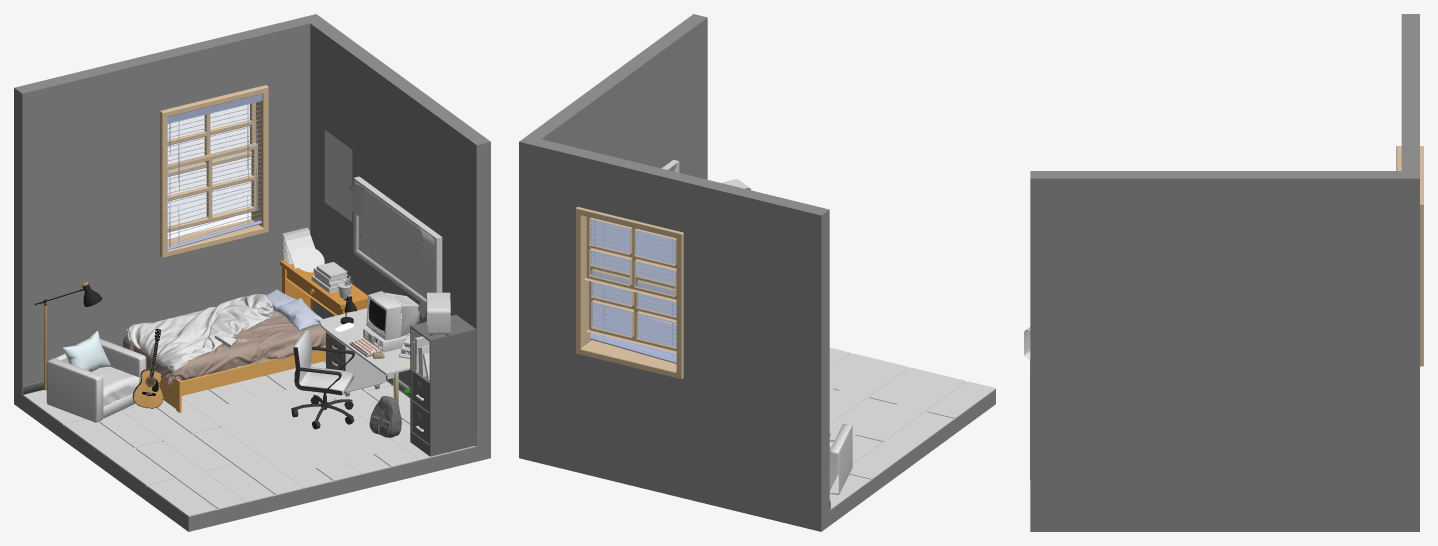
The model's file is bekedPortfolio6.glb.
The picture shows the model from 3 angles, left to right: view 1: azimuth 30°, elevation 25°; view 2: azimuth 150°, elevation 25°; view 3: azimuth 270°, elevation 25°; orthographic projection. The views are drawn at different scales.
Parts seen in each view (by area): view 1: floorWalls, window, carpet, fileCabinet, smallCouch, Duvet, board, Sheet, desk, chair, pc, bedFrame (+11 smaller); view 2: floorWalls, window, smallCouch; view 3: floorWalls, window.
Boxes of the visible parts, bbox=[...] form: floorWalls: bbox=[14, 14, 490, 531]; window: bbox=[160, 85, 268, 257]; carpet: bbox=[206, 387, 392, 473]; fileCabinet: bbox=[410, 314, 476, 456]; smallCouch: bbox=[46, 330, 146, 422]; Duvet: bbox=[126, 294, 273, 371]; board: bbox=[353, 176, 442, 306]; Sheet: bbox=[123, 311, 326, 386]; desk: bbox=[320, 308, 410, 403]; chair: bbox=[291, 329, 354, 429]; pc: bbox=[363, 291, 419, 352]; bedFrame: bbox=[146, 346, 325, 412]; floorWalls: bbox=[519, 14, 995, 531]; window: bbox=[575, 207, 683, 379]; smallCouch: bbox=[829, 424, 852, 494]; floorWalls: bbox=[1030, 14, 1419, 531]; window: bbox=[1396, 146, 1423, 366].
Size of the model in its own units: 4 by 4 by 4.1.
